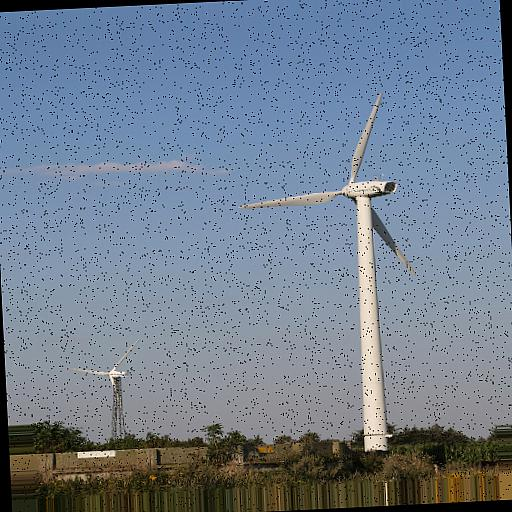wind turbine: (238, 91, 418, 450), (73, 337, 143, 445)
